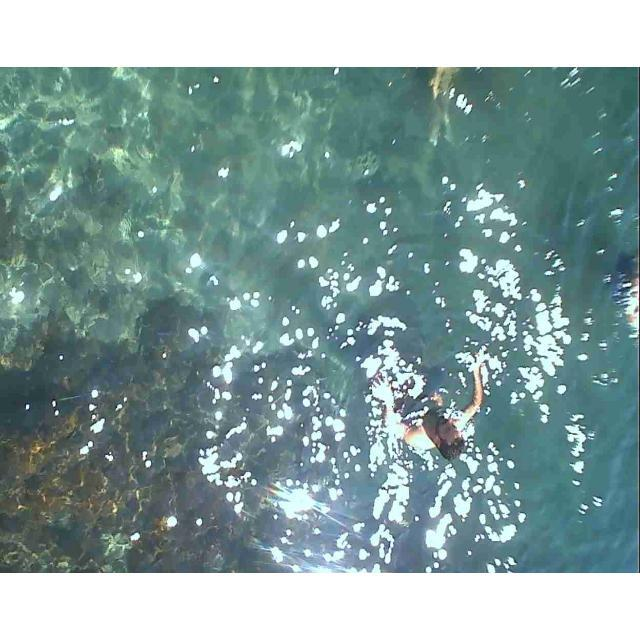human: (372, 358, 492, 485)
